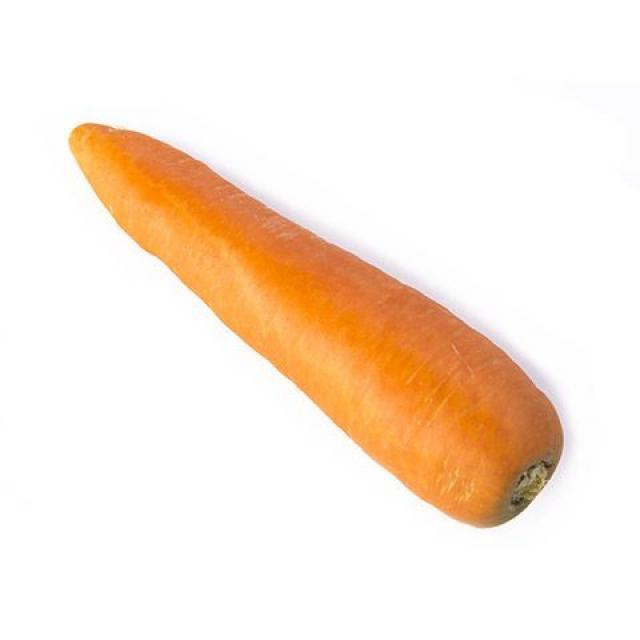Carrot: (62, 121, 564, 534)
